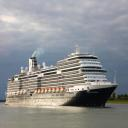cruises: (6, 44, 121, 112)
